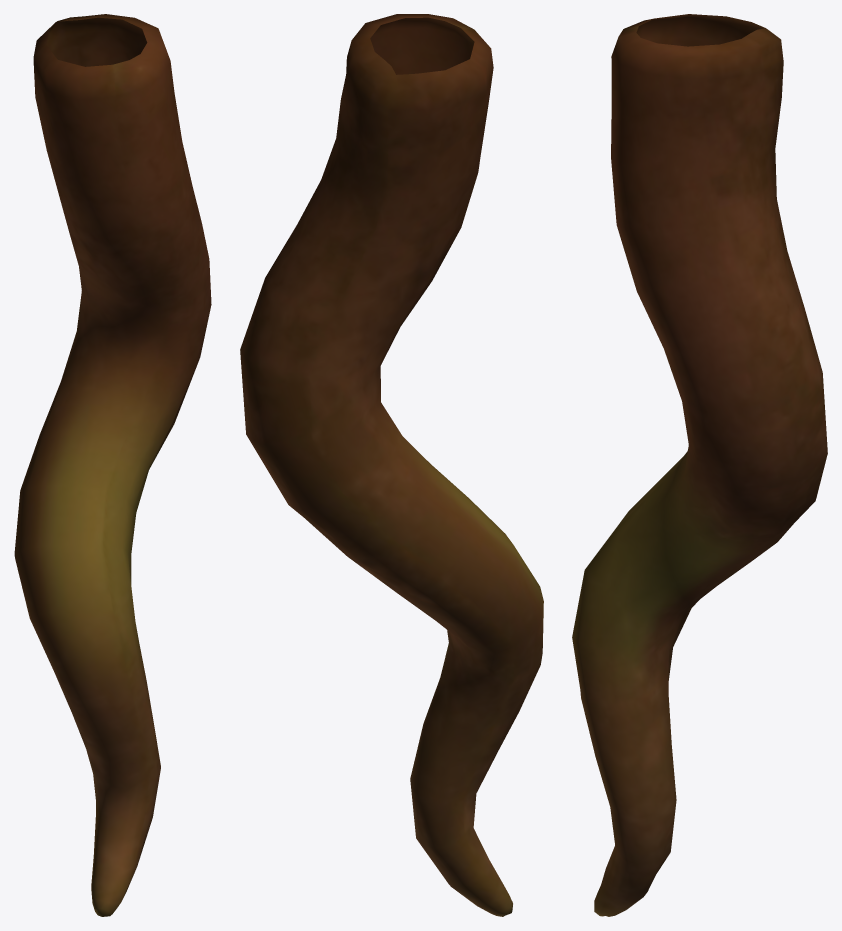
The picture shows the model from 3 angles, left to right: view 1: azimuth 30°, elevation 25°; view 2: azimuth 150°, elevation 25°; view 3: azimuth 270°, elevation 25°; orthographic projection. The views are drawn at different scales.
Visible parts, largest first — view 1: Root1_low; view 2: Root1_low; view 3: Root1_low.
Boxes of the visible parts, x1,y1,x2,y2 form: Root1_low: [14, 14, 211, 916]; Root1_low: [240, 14, 543, 916]; Root1_low: [572, 14, 827, 916].
Size of the model in its own units: 4.32 by 15.84 by 4.04.
Materials: 1 (1 with a texture image).
